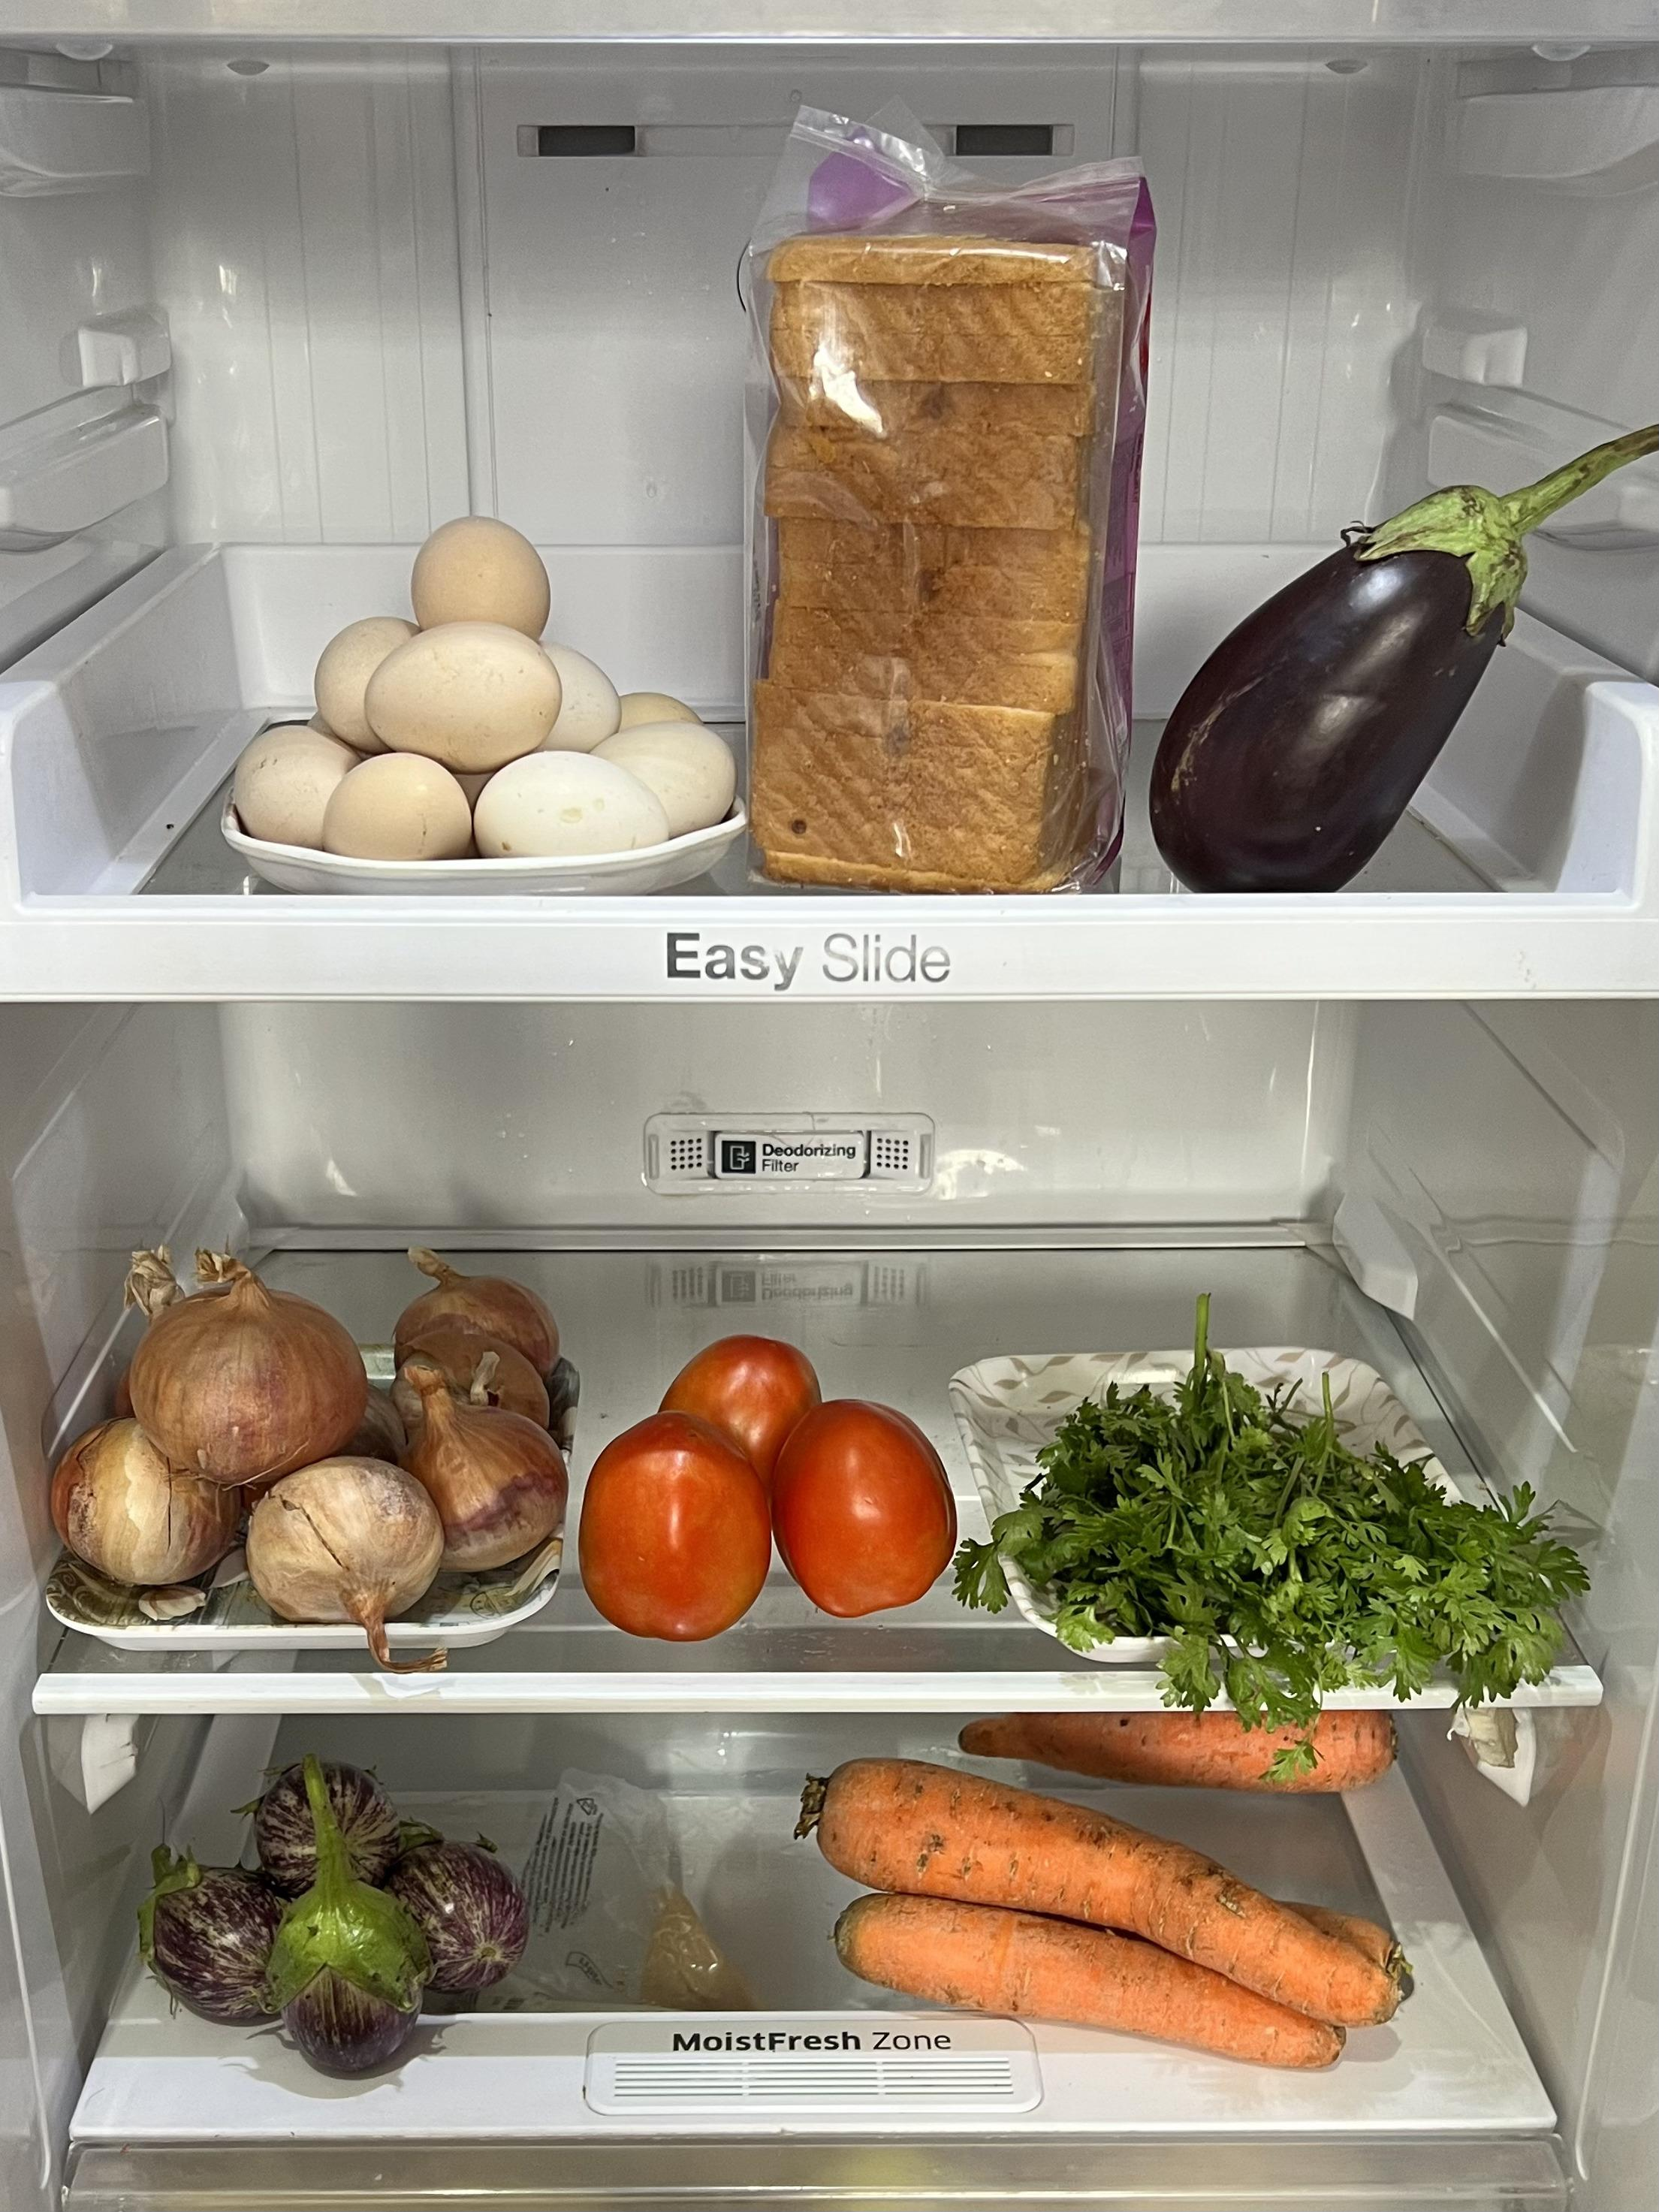bread: (728, 200, 1138, 882)
bringal: (1155, 474, 1547, 894), (153, 1755, 518, 2073)
carrots: (782, 1717, 1452, 2052)
coriander: (990, 1367, 1572, 1713)
egg: (237, 509, 732, 882)
onion: (38, 1269, 570, 1645)
tomato: (584, 1332, 950, 1639)
